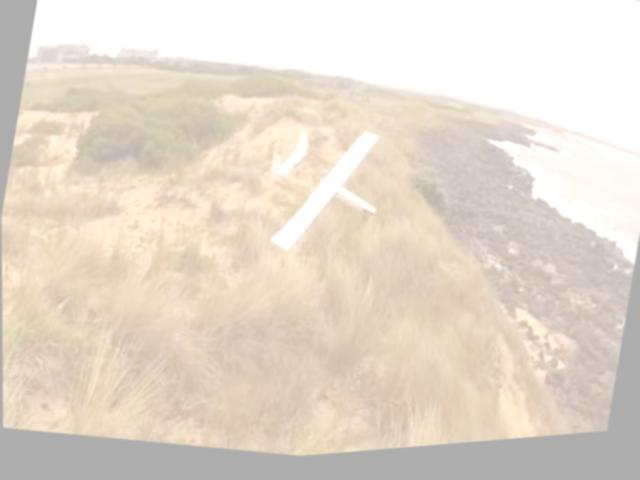uav: (252, 115, 396, 279)
